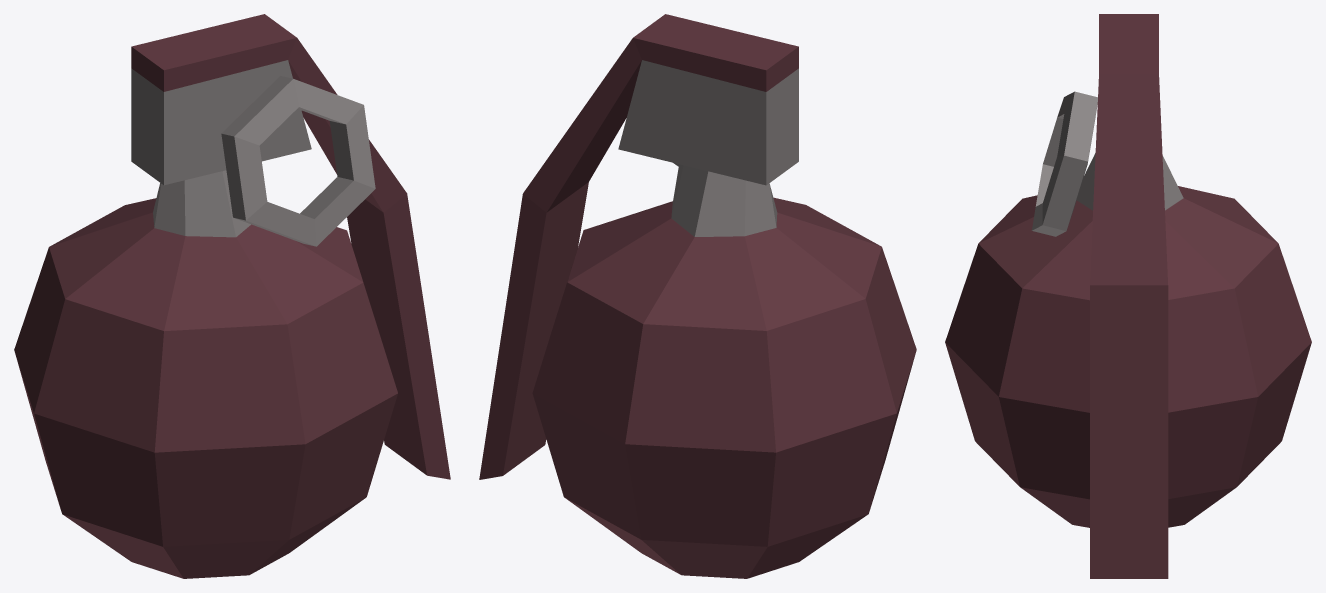
File: SM_Grenade_Frag.fbx
3 renders of one model, left to right at view 1: azimuth 30°, elevation 25°; view 2: azimuth 150°, elevation 25°; view 3: azimuth 270°, elevation 25°, orthographic. The views are drawn at different scales.
Visible parts, largest first — view 1: SM_Grenade_Frag; view 2: SM_Grenade_Frag; view 3: SM_Grenade_Frag.
Part boxes in pixels (x1,y1,x2,y2): SM_Grenade_Frag: (14, 14, 450, 578); SM_Grenade_Frag: (479, 14, 916, 578); SM_Grenade_Frag: (945, 14, 1311, 578).
Bounding box in the file's own units: 0.0954 × 0.115 × 0.0829.
